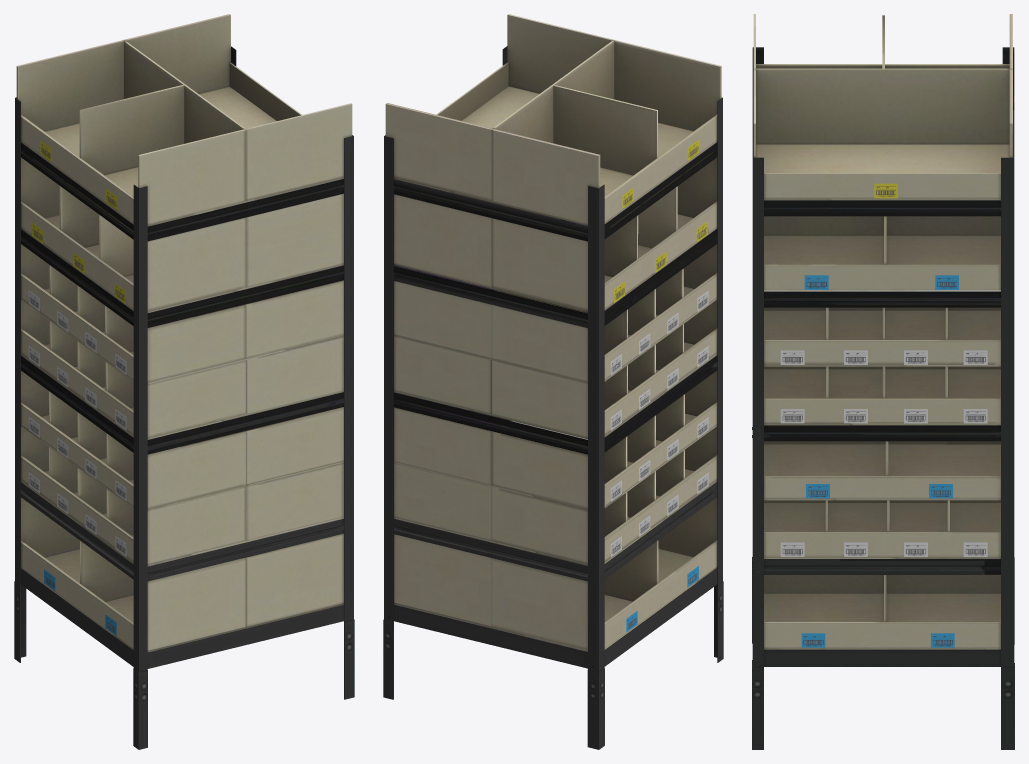
The model's file is AGV货架.gltf.
3 renders of one model, left to right at view 1: azimuth 30°, elevation 25°; view 2: azimuth 150°, elevation 25°; view 3: azimuth 270°, elevation 25°, orthographic. The views are drawn at different scales.
Visible parts, largest first — view 1: AGV货架B; view 2: AGV货架B; view 3: AGV货架B.
Part boxes in pixels (box(x1,y1,x2,y2)): AGV货架B: box(14, 14, 354, 749); AGV货架B: box(383, 14, 723, 749); AGV货架B: box(752, 14, 1014, 749).
Size of the model in its own units: 0.8732 by 2.29 by 0.8732.
Materials: 1 (1 with a texture image).
